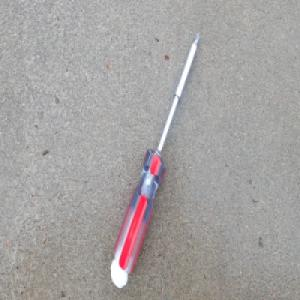Screwdriver: (109, 30, 200, 289)
